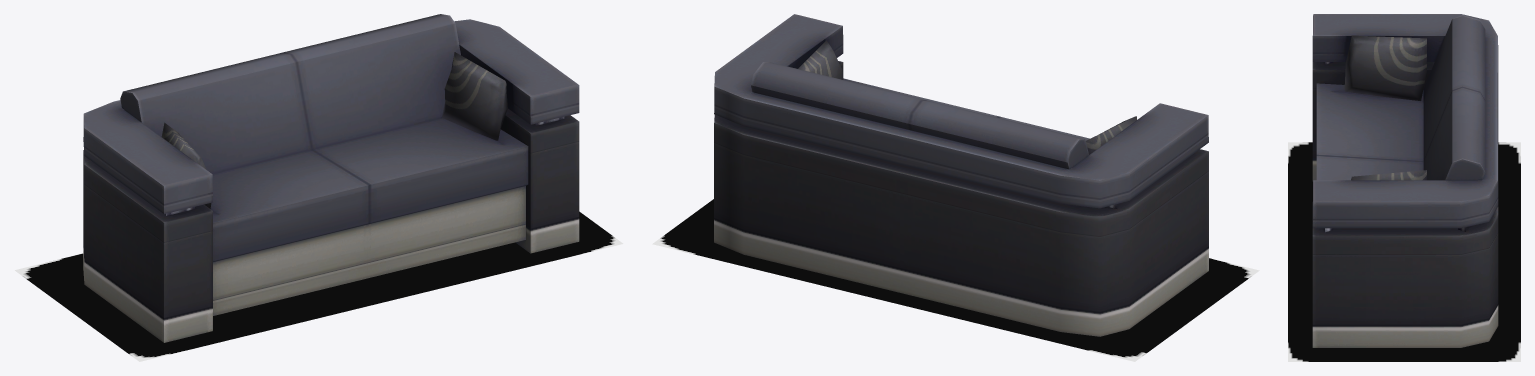
File: jj_ty_shafa08.FBX
3 views of the same model, side by side, from view 1: azimuth 30°, elevation 25°; view 2: azimuth 150°, elevation 25°; view 3: azimuth 270°, elevation 25° (orthographic). The views are drawn at different scales.
Parts seen in each view (by area): view 1: jj_ty_shafa08, shadow; view 2: jj_ty_shafa08, shadow; view 3: jj_ty_shafa08, shadow.
Boxes of the visible parts, box(x1,y1,x2,y2) form: jj_ty_shafa08: box(83, 14, 579, 342); shadow: box(15, 211, 623, 361); jj_ty_shafa08: box(714, 14, 1208, 336); shadow: box(652, 199, 1259, 361); jj_ty_shafa08: box(1312, 14, 1498, 347); shadow: box(1288, 142, 1520, 361).
Bounding box in the file's own units: 280 × 99.92 × 125.
